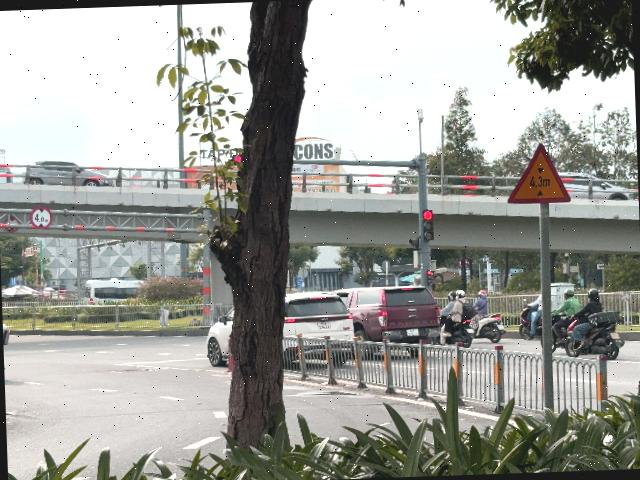chieu-cao-tinh-khong-thuc-te: (505, 142, 572, 204)
